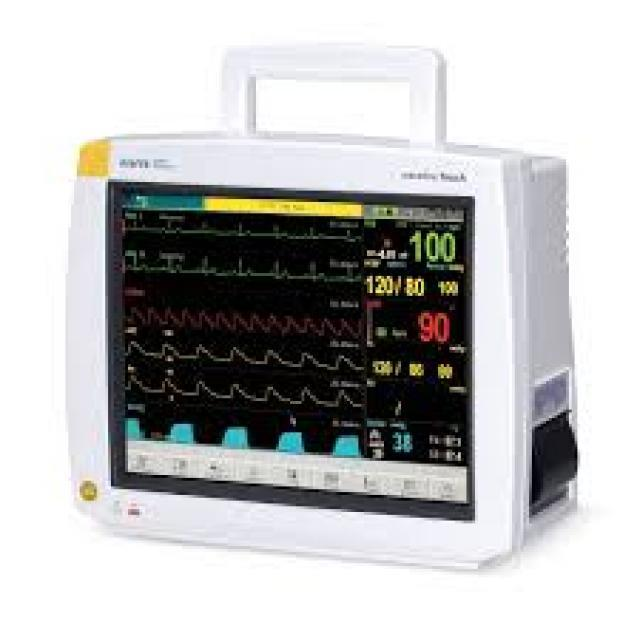cardiac_monitor: (67, 74, 571, 556)
